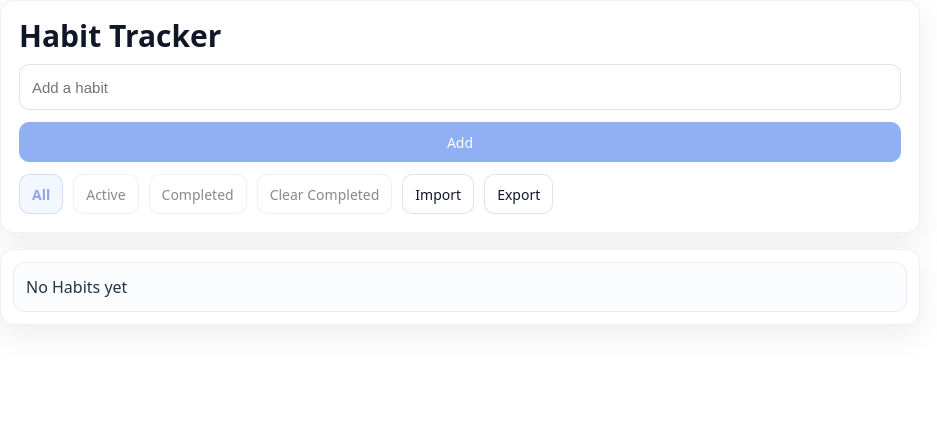
Scenario: Clear Completed › After completing one habit: button enabled
In the field named "new habit": (460, 87) top-left (19, 64), bottom-right (901, 110), type "active habit"
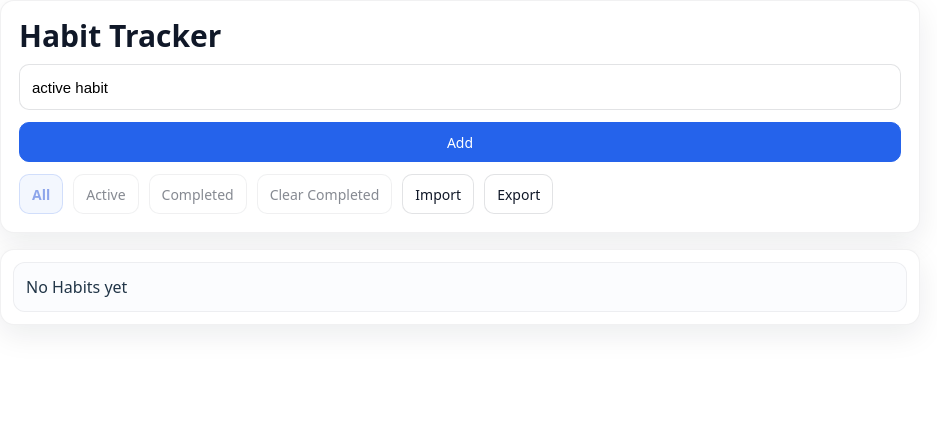
Click the button "Add": (460, 142) top-left (19, 122), bottom-right (901, 162)
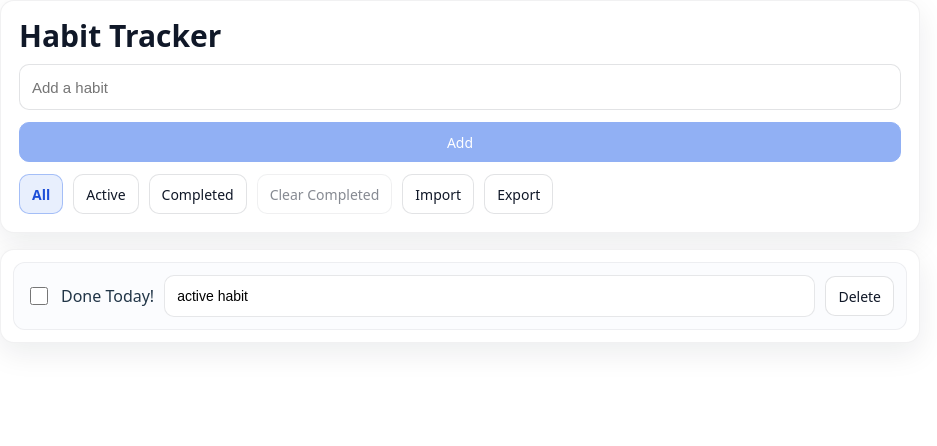
In the field named "new habit": (460, 87) top-left (19, 64), bottom-right (901, 110), type "second ac habit"
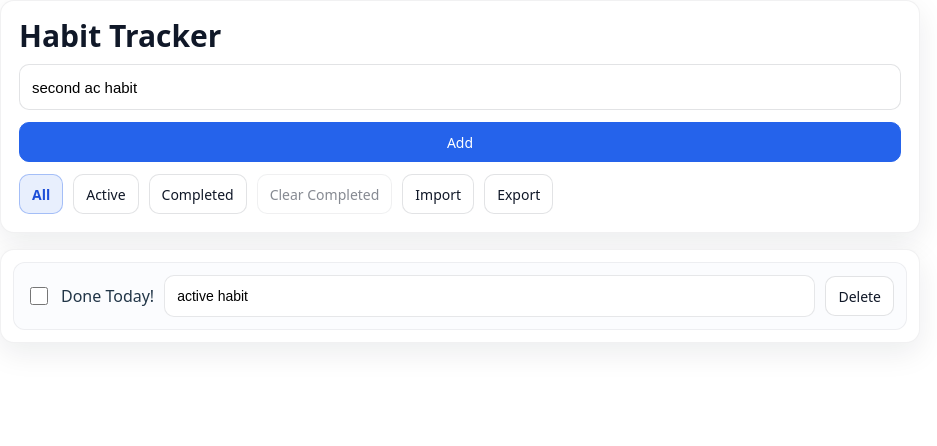
Click the button "Add": (460, 142) top-left (19, 122), bottom-right (901, 162)
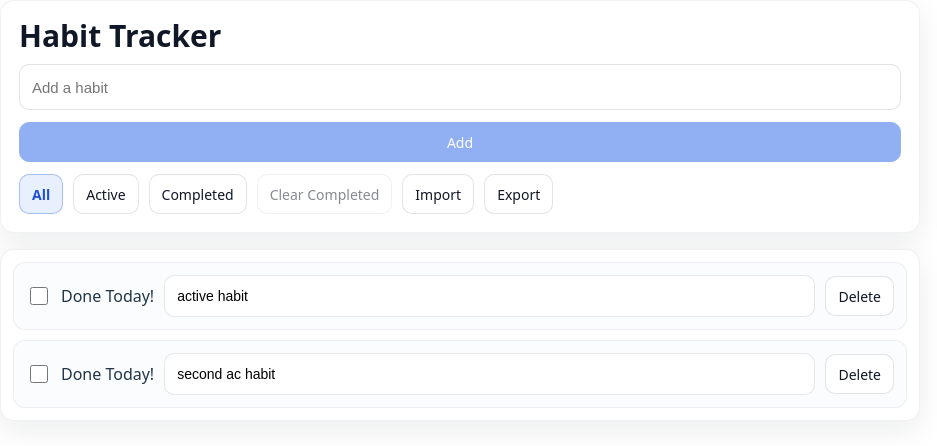
Check: the button "Clear Completed" is disabled, box top-left (257, 174), bottom-right (392, 214)
Click the checkbox named "Mark active habit done": (39, 296) top-left (30, 287), bottom-right (48, 305)
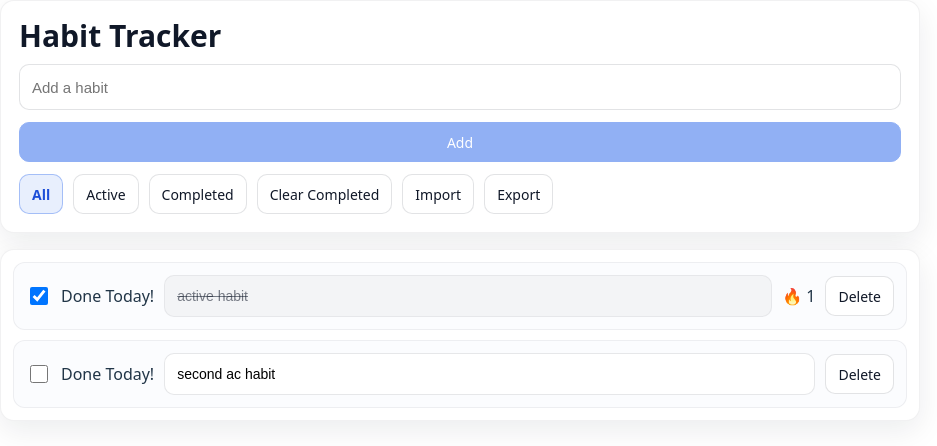
Check: the button "Clear Completed" is enabled, box top-left (257, 174), bottom-right (392, 214)
